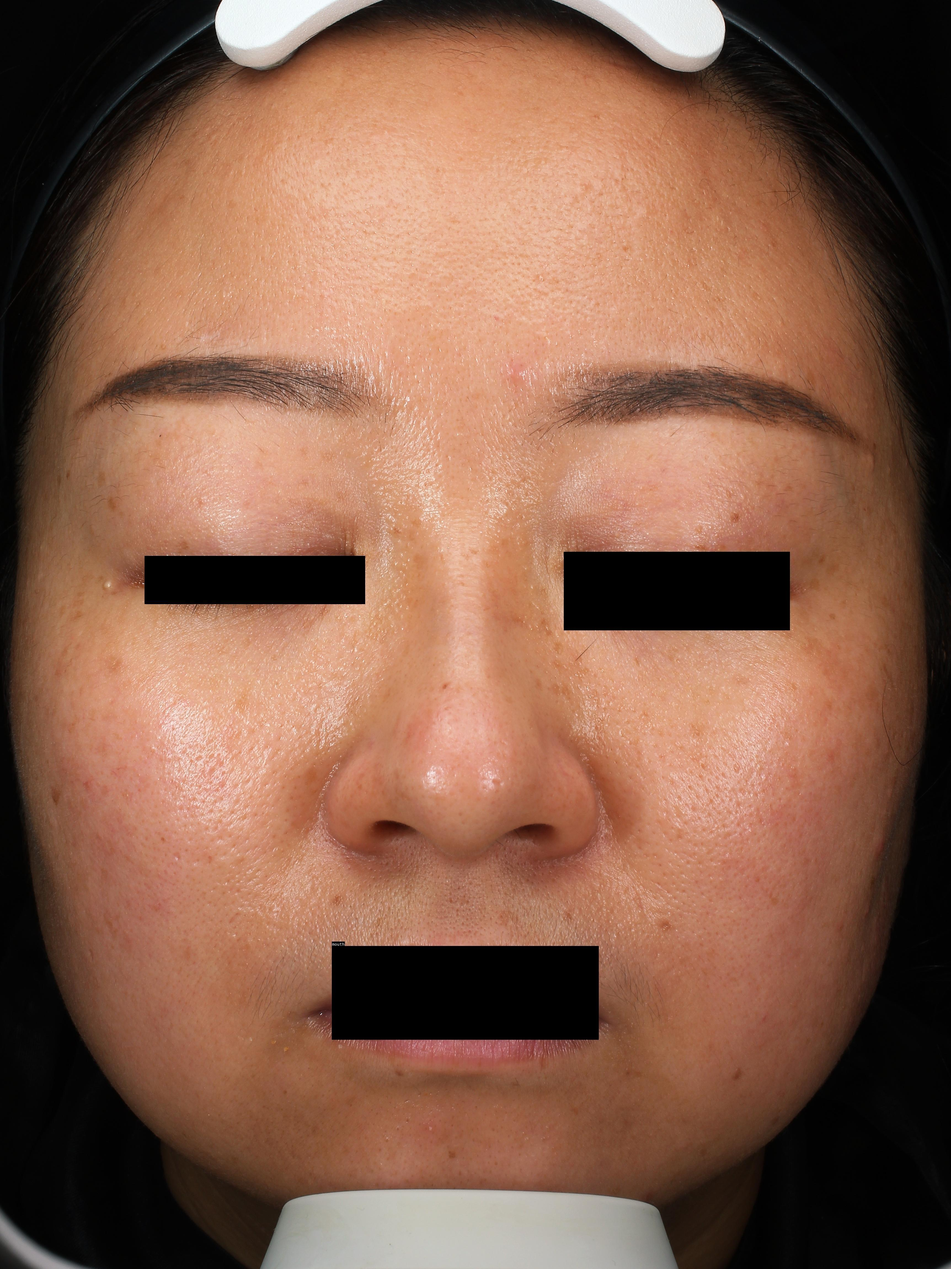atrophic_scar: (201, 753, 222, 780), (199, 330, 221, 342), (229, 911, 243, 925), (491, 777, 507, 789), (699, 761, 710, 773), (171, 851, 181, 863), (88, 948, 95, 965), (407, 272, 420, 281), (191, 858, 200, 867), (193, 754, 203, 762), (733, 764, 740, 774), (109, 697, 115, 707), (207, 855, 213, 865), (448, 895, 454, 905), (403, 1098, 411, 1103), (406, 1116, 409, 1124)
closed_comedo: (578, 182, 589, 194), (525, 158, 536, 169), (784, 740, 793, 751), (538, 156, 547, 166), (739, 492, 749, 501), (641, 206, 650, 215), (149, 745, 158, 753), (777, 318, 784, 327), (529, 584, 536, 592), (383, 128, 390, 136), (886, 466, 892, 474), (640, 715, 646, 721), (538, 274, 543, 281), (612, 934, 619, 939), (614, 532, 619, 538), (639, 486, 643, 490)
melasma: (799, 635, 826, 662), (754, 471, 783, 493), (819, 551, 842, 574), (55, 644, 72, 674), (234, 687, 252, 714), (783, 605, 811, 621), (772, 620, 795, 639), (105, 653, 123, 676), (687, 722, 706, 742), (538, 618, 554, 636), (864, 681, 879, 700), (805, 577, 819, 592), (878, 590, 890, 607), (561, 681, 574, 695), (175, 540, 189, 553), (81, 572, 94, 586), (499, 536, 512, 550), (413, 553, 423, 571), (68, 609, 84, 620), (97, 471, 108, 487), (729, 512, 742, 525), (553, 658, 563, 674), (551, 683, 562, 697), (554, 640, 564, 654), (839, 598, 853, 608), (73, 597, 85, 606), (410, 519, 422, 528), (108, 498, 115, 512), (468, 547, 480, 555), (453, 579, 465, 587), (461, 552, 471, 561), (878, 642, 889, 650), (694, 544, 708, 550), (393, 527, 402, 535), (60, 604, 65, 617), (76, 591, 86, 597), (830, 613, 837, 620)
nevus: (52, 786, 62, 806), (731, 1066, 742, 1081), (660, 920, 671, 931), (332, 894, 342, 906), (539, 1055, 548, 1068), (443, 682, 451, 690), (396, 1070, 405, 1077), (448, 1151, 455, 1159), (65, 471, 69, 479), (626, 1070, 630, 1075)
open_comedo: (386, 1137, 390, 1143)
other: (100, 577, 116, 593), (281, 1046, 292, 1053), (199, 494, 207, 502), (695, 526, 703, 534), (180, 490, 187, 497), (270, 1040, 278, 1045)
papule: (507, 363, 529, 385), (874, 836, 884, 858), (868, 453, 876, 468), (835, 921, 844, 932), (887, 787, 895, 799), (866, 906, 871, 915)
pustule: (427, 1125, 434, 1132)
